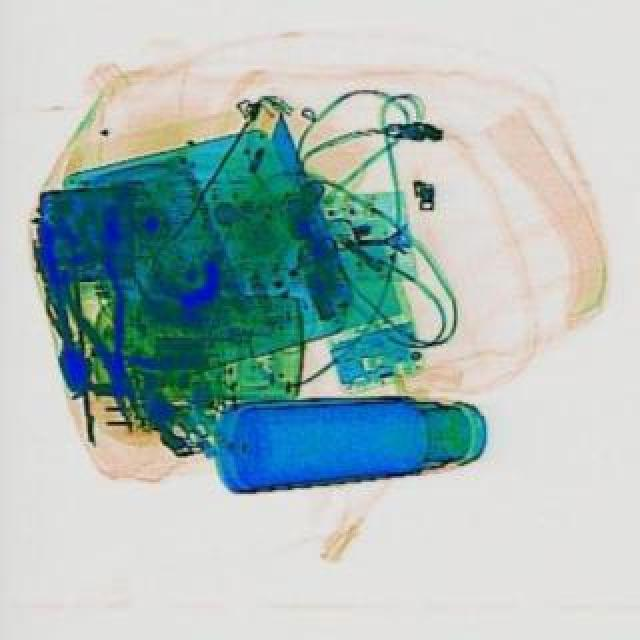wrench: (40, 206, 164, 438)
